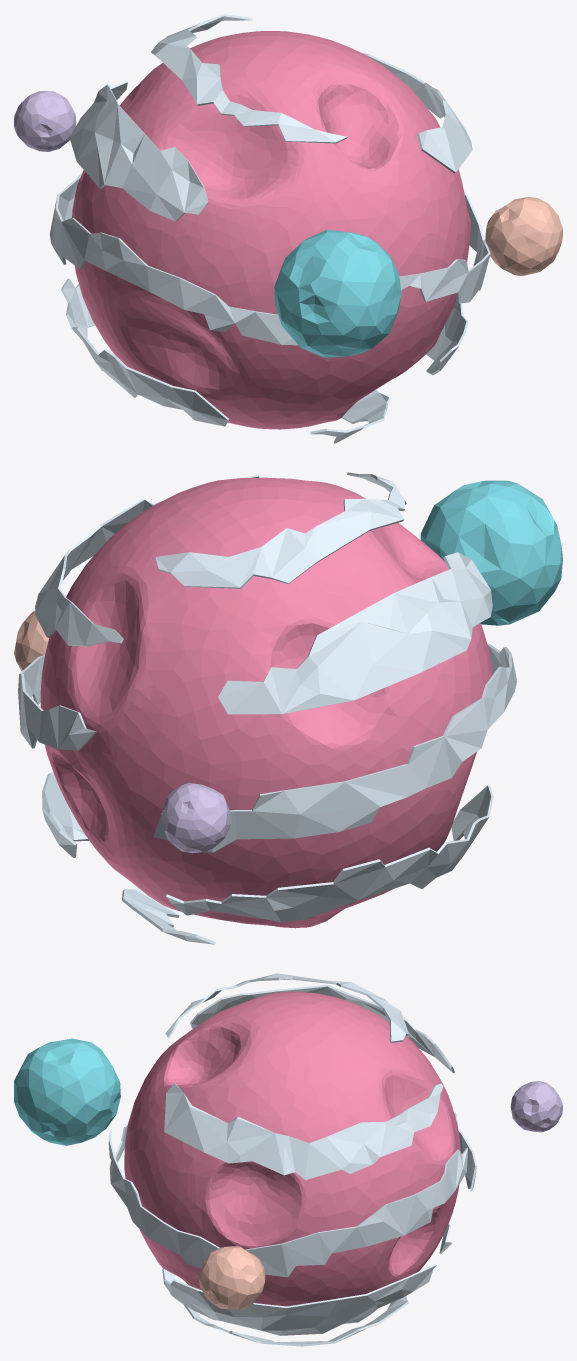
Rendered from Planet_38.glb.
3 renders of one model, top to bottom at view 1: azimuth 30°, elevation 25°; view 2: azimuth 150°, elevation 25°; view 3: azimuth 270°, elevation 25°, orthographic. The views are drawn at different scales.
Visible parts, largest first — view 1: Planet_38; view 2: Planet_38; view 3: Planet_38.
Boxes of the visible parts, x1,y1,x2,y2 form: Planet_38: (14,14,562,443); Planet_38: (14,472,562,944); Planet_38: (14,973,562,1346).
Bounding box in the file's own units: 25.63 × 20.79 × 32.61.
Materials: 1 (1 with a texture image).
